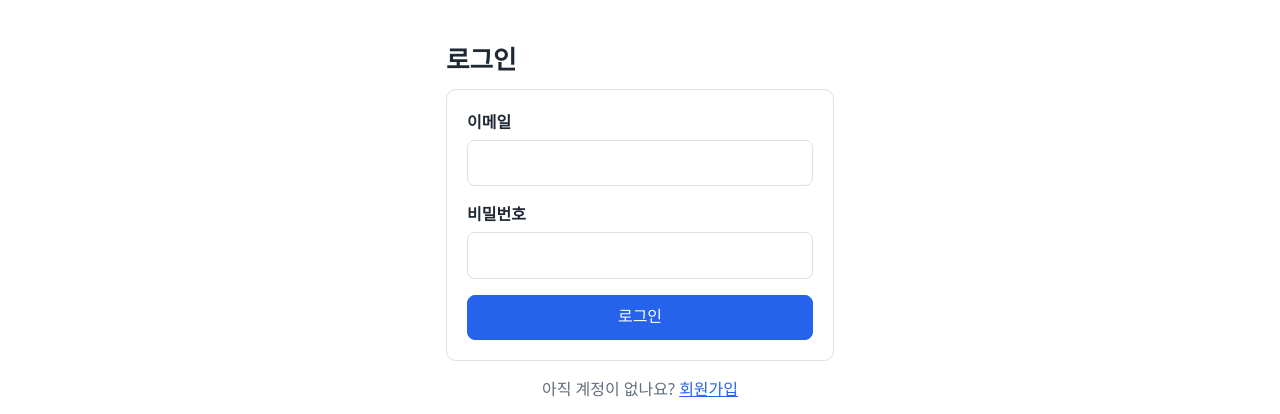
로그인과 로그아웃 › 성공하면 내 기록 홈으로 이동하고 로그인 값을 보관한다
Type "a@example.com" into the field labelled "이메일" at (640, 163), box [467,140,813,186]
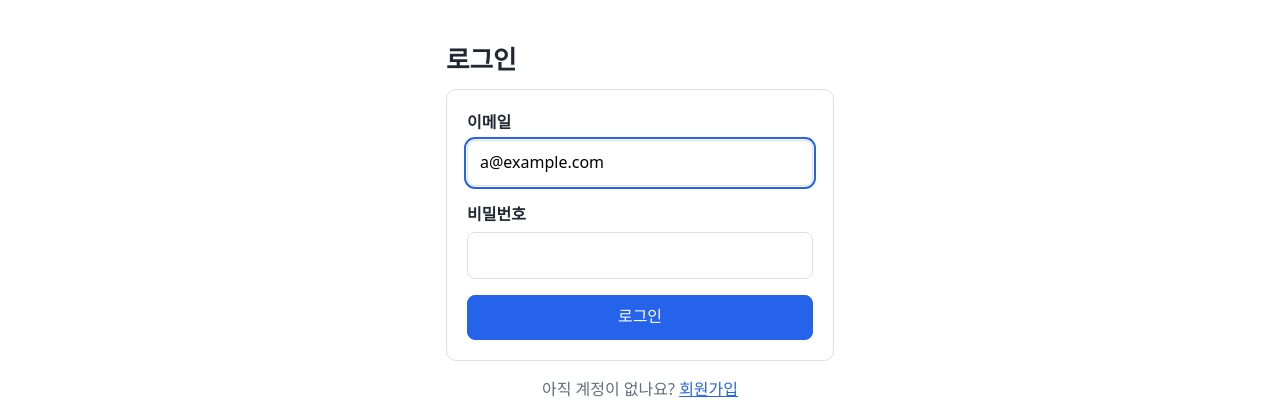
Type "password123" into the password field labelled "비밀번호" at (640, 255), box [467,232,813,279]
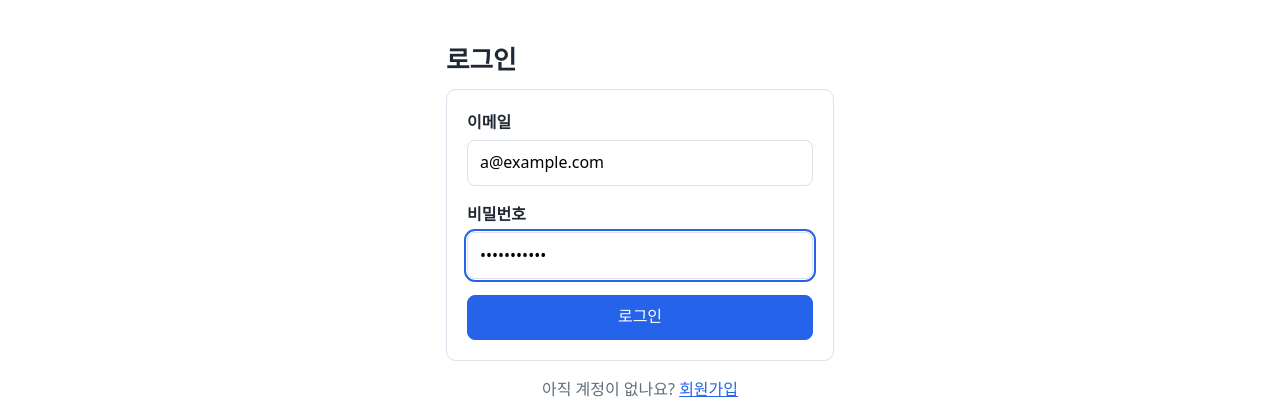
Click the button "로그인" at (640, 317), box [467,295,813,340]
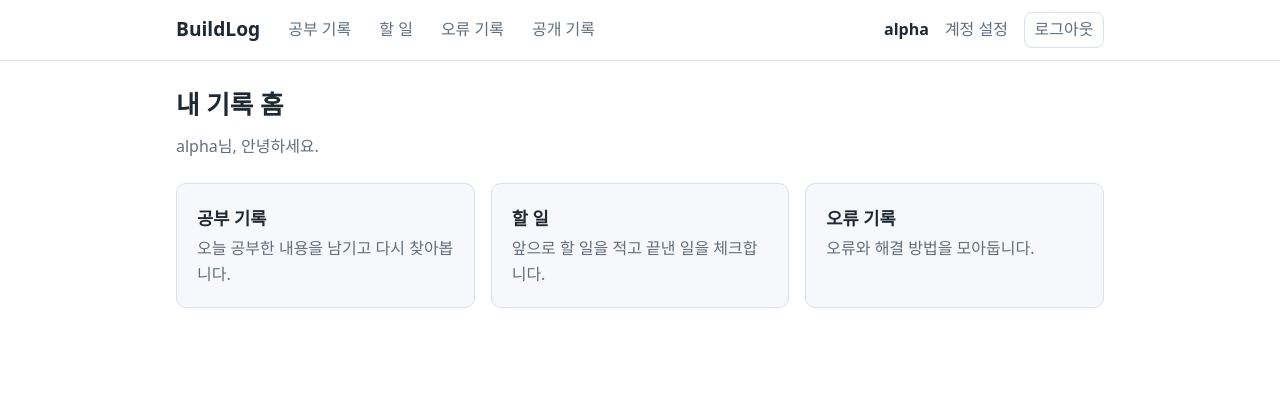
Now the heading "내 기록 홈" is shown, box [176,87,284,122]
Now the navigation bar named "주 메뉴" is shown, box [288,18,595,40]
